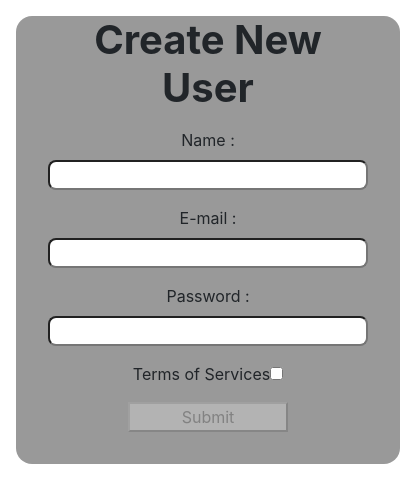
Scenario: form test › submit test
Type "Anıl" into the field with test id "name" at (208, 175), box [48, 160, 368, 190]
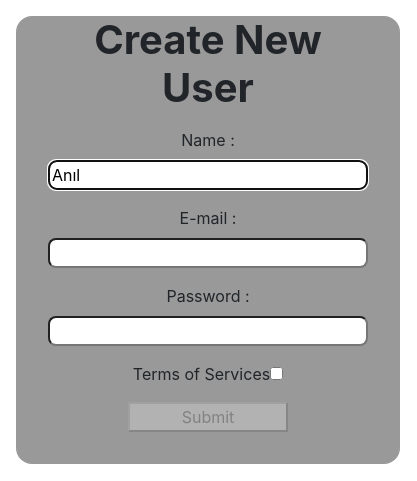
Type "anil@gmail.com" into the field with test id "email" at (208, 253), box [48, 238, 368, 268]
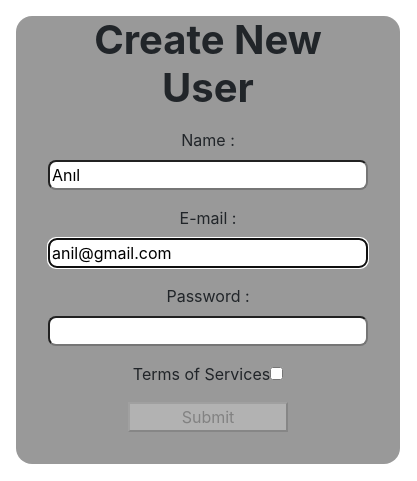
Type "Aa1!" into the password field with test id "password" at (208, 331), box [48, 316, 368, 346]
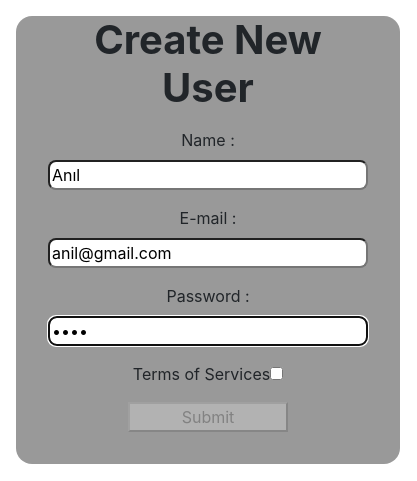
Check the checkbox with test id "terms" at (277, 374), box [270, 367, 283, 380]
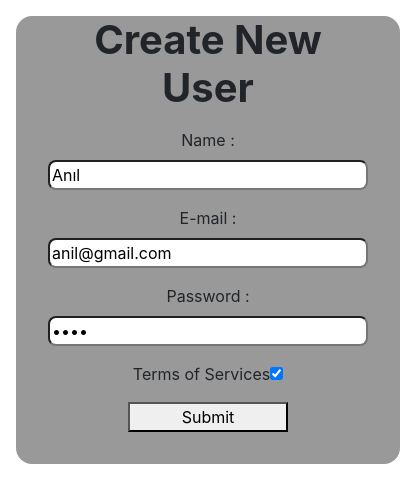
Result: the button with test id "submit_button" is enabled at [128, 402, 288, 432]
